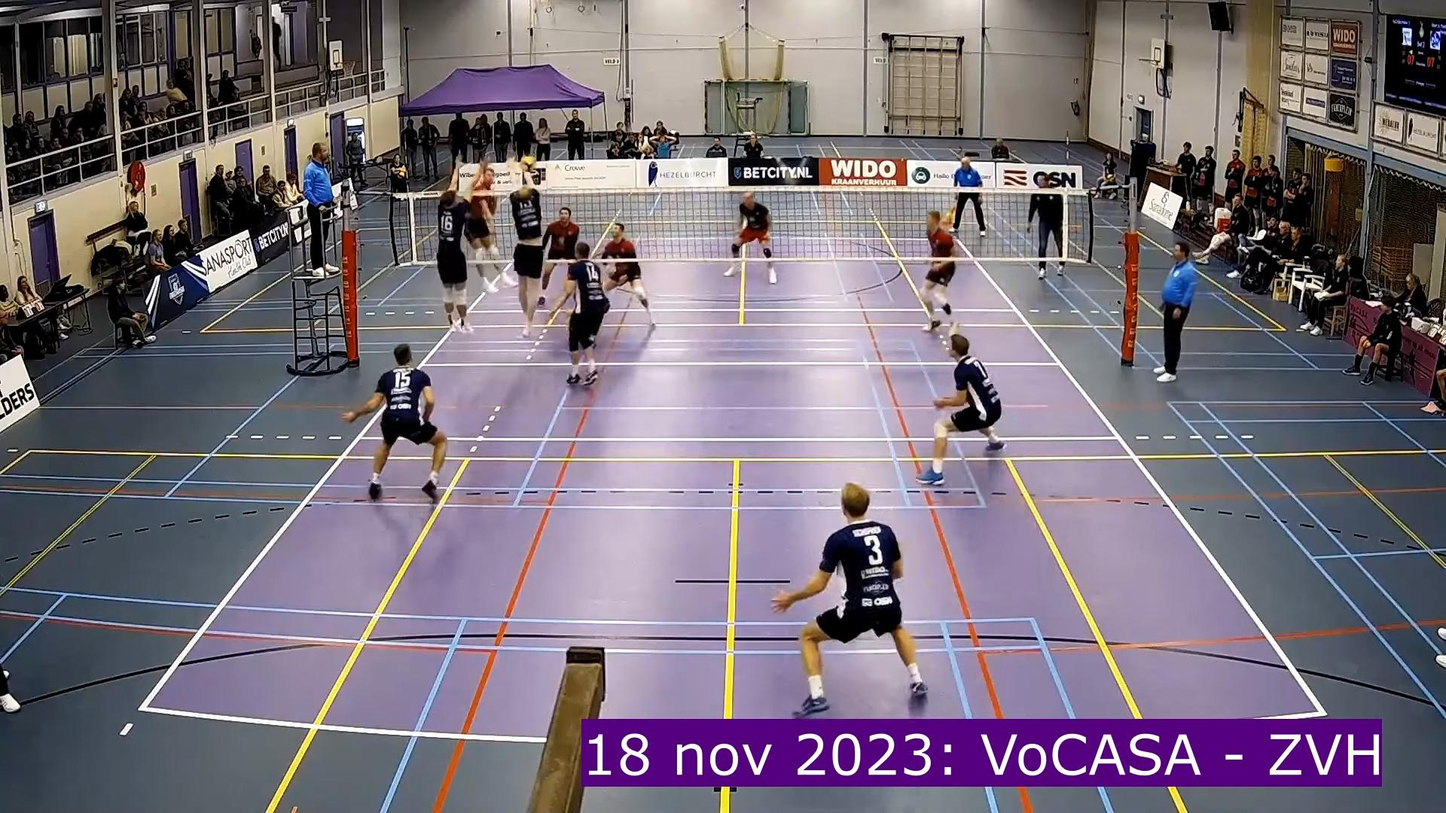Attack: (467, 161, 519, 300)
Block: (422, 159, 498, 336), (502, 161, 555, 308)
Player: (773, 483, 927, 715), (343, 344, 446, 501), (917, 333, 1005, 485), (549, 242, 609, 385), (600, 224, 653, 324), (725, 192, 776, 283), (538, 206, 579, 306), (921, 212, 955, 331)
ball: (521, 157, 535, 169)
